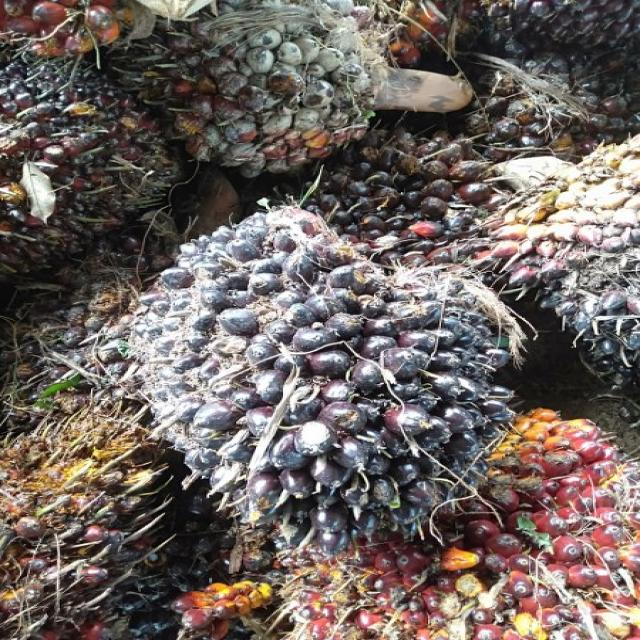fraksi 00: (126, 213, 520, 551), (140, 0, 400, 190)
